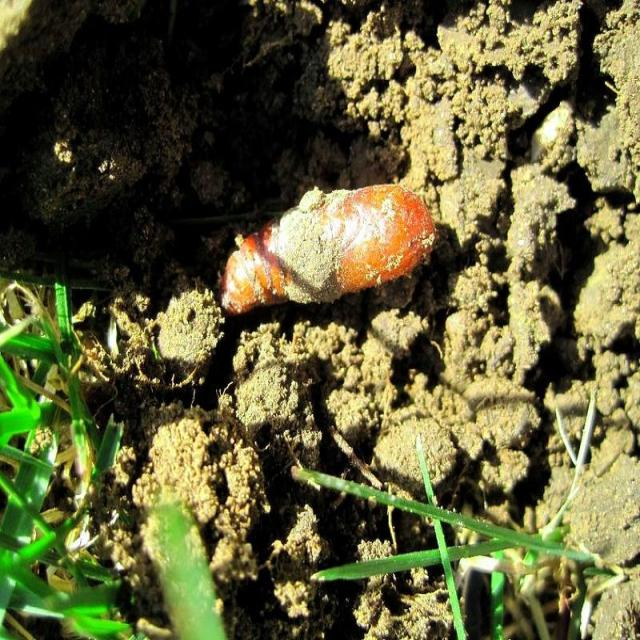black cutworm: (225, 180, 444, 298)
